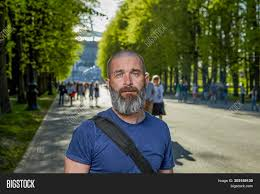white_male: (101, 49, 152, 109)
